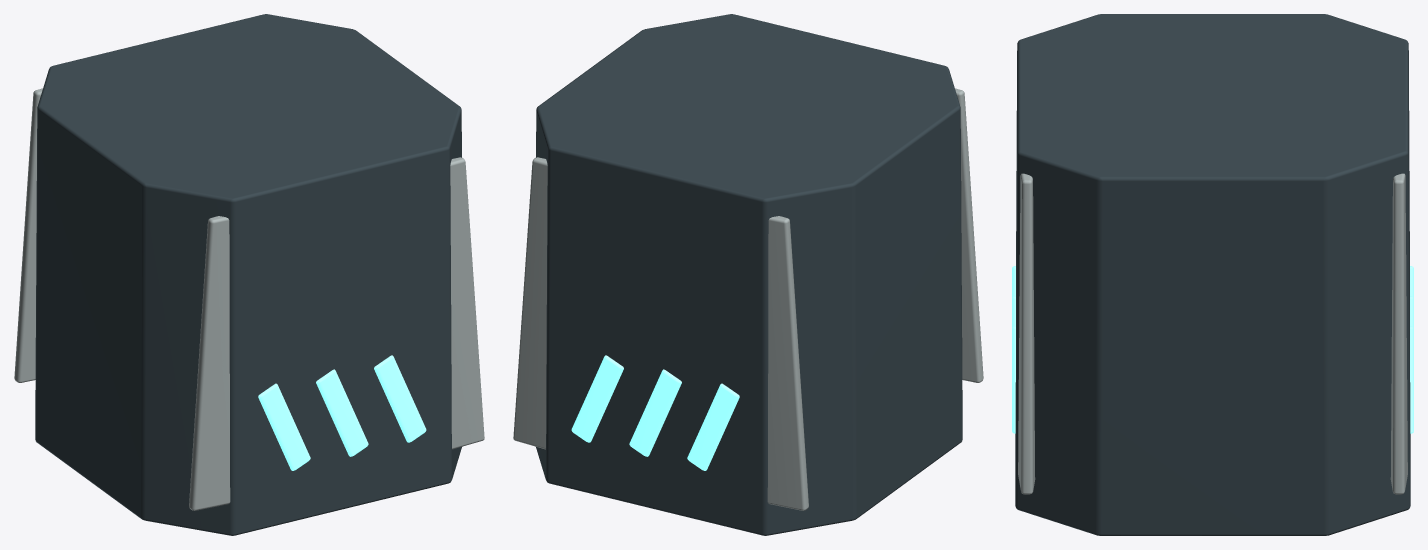
Rendered from Pillar.fbx.
3 renders of one model, left to right at view 1: azimuth 30°, elevation 25°; view 2: azimuth 150°, elevation 25°; view 3: azimuth 270°, elevation 25°, orthographic. The views are drawn at different scales.
Visible parts, largest first — view 1: PillarFrame, Armor.004, Armor.005, Signal.013, Signal.012, Signal.014; view 2: PillarFrame, Armor.005, Armor.004, Signal.016, Signal.015, Signal.017; view 3: PillarFrame, Armor.004, Armor.005.
Boxes of the visible parts, bbox=[...] form: PillarFrame: bbox=[35, 14, 461, 535]; Armor.004: bbox=[189, 157, 484, 510]; Armor.005: bbox=[14, 88, 42, 382]; Signal.013: bbox=[316, 369, 368, 456]; Signal.012: bbox=[258, 383, 310, 470]; Signal.014: bbox=[374, 355, 426, 442]; PillarFrame: bbox=[536, 14, 962, 535]; Armor.005: bbox=[513, 157, 808, 510]; Armor.004: bbox=[955, 88, 983, 382]; Signal.016: bbox=[629, 369, 681, 456]; Signal.015: bbox=[687, 383, 739, 470]; Signal.017: bbox=[571, 355, 623, 442]; PillarFrame: bbox=[1015, 14, 1410, 535]; Armor.004: bbox=[1018, 173, 1035, 494]; Armor.005: bbox=[1390, 173, 1407, 494].
Size of the model in its own units: 0.9999 by 1 by 1.02.
